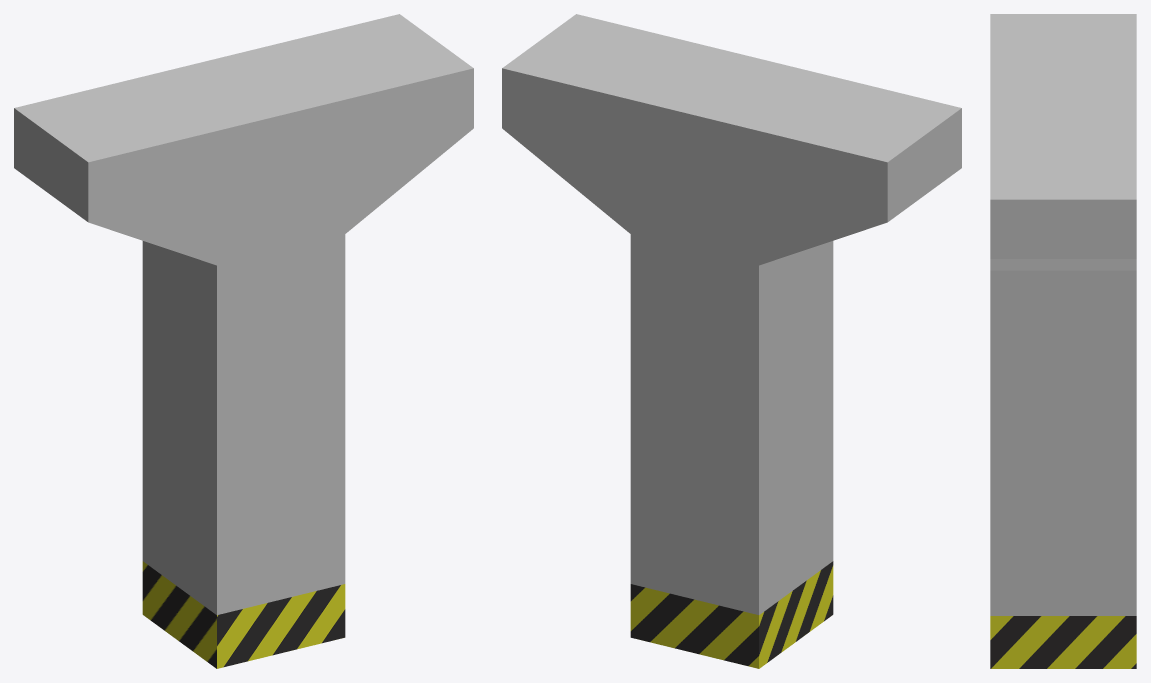
Rendered from PG_Post.fbx.
3 views of the same model, side by side, from view 1: azimuth 30°, elevation 25°; view 2: azimuth 150°, elevation 25°; view 3: azimuth 270°, elevation 25° (orthographic).
Visible parts, largest first — view 1: PG_Post; view 2: PG_Post; view 3: PG_Post.
Part boxes in pixels (<box>): PG_Post: <box>14,14,473,668</box>; PG_Post: <box>502,14,961,668</box>; PG_Post: <box>990,14,1136,668</box>.
Bounding box in the file's own units: 300 × 400 × 100.
